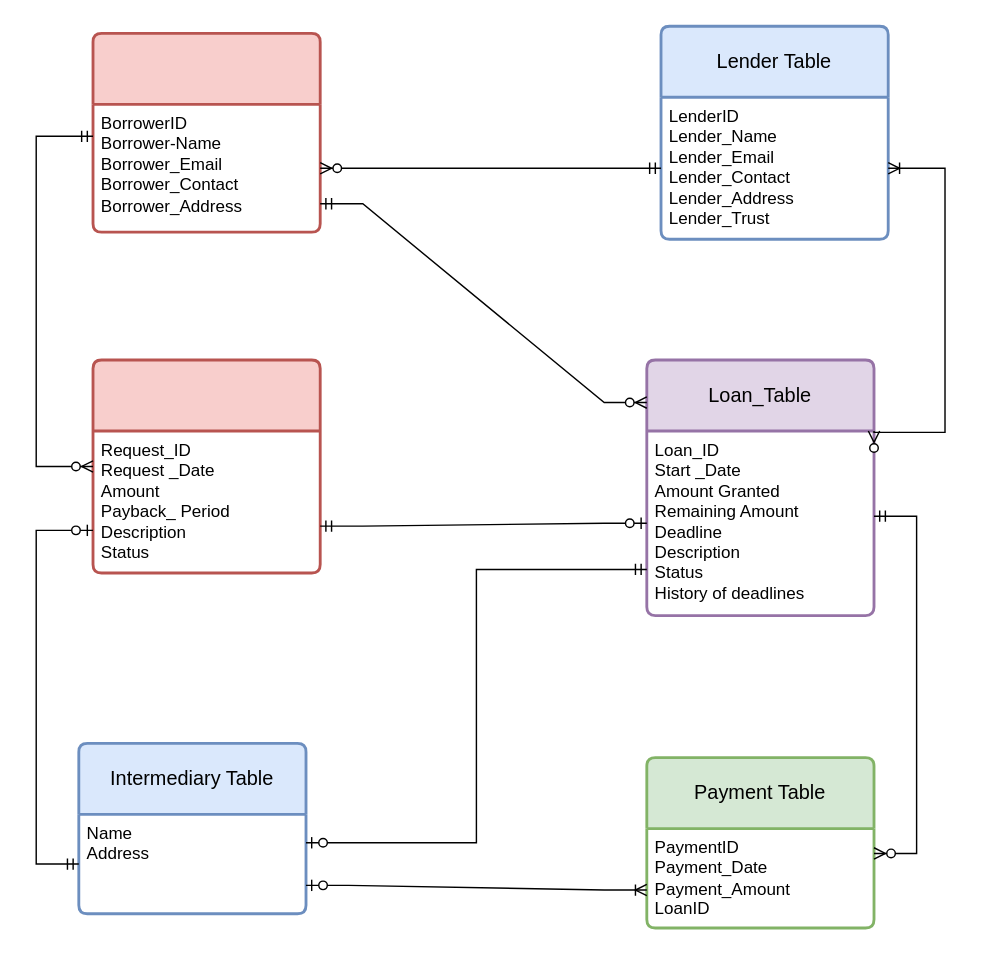
Image size: 983x953. Some labels were removed from this diagram. Here are the shapes that lost their labels. From the top down, the box of each, then its label:
(91, 31, 321, 233): Borrower Table
(91, 358, 321, 574): Loan Request_Table
